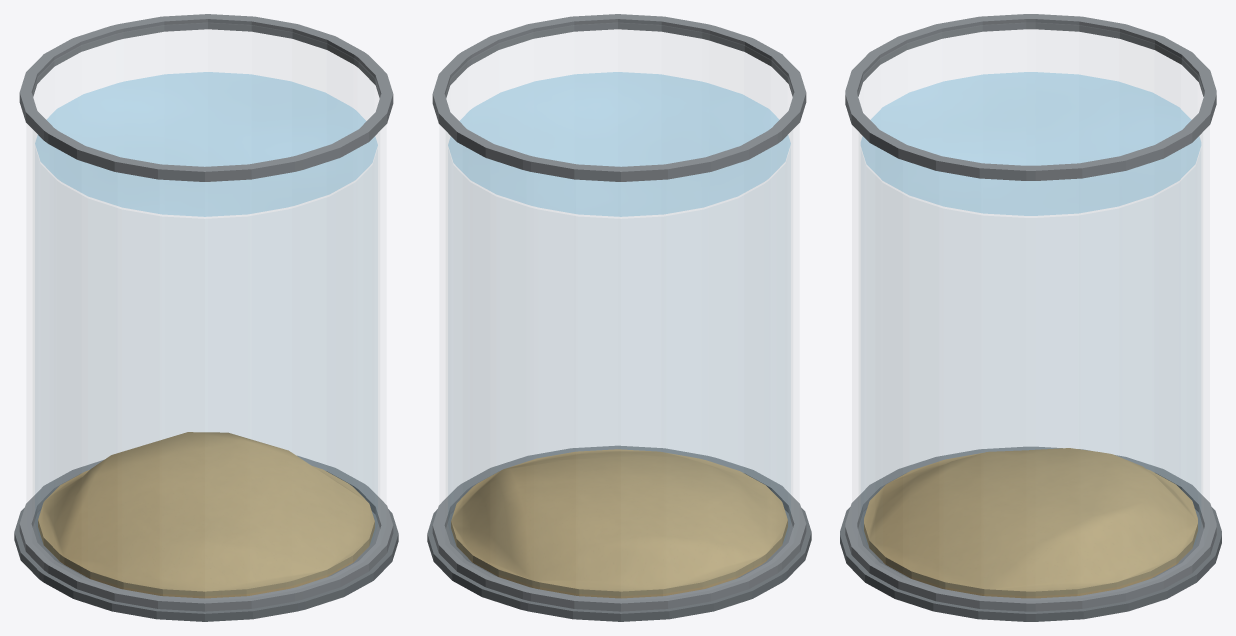
The model's file is aquarium_c.glb.
The picture shows the model from 3 angles, left to right: view 1: azimuth 30°, elevation 25°; view 2: azimuth 150°, elevation 25°; view 3: azimuth 270°, elevation 25°; orthographic projection.
Parts seen in each view (by area): view 1: GLASS_AcrylicShell, INTERIOR_GroundSurface, WATER_Surface, STRUCTURE_TopRim, STRUCTURE_BottomRim, STRUCTURE_BasePlinth, INTERIOR_GroundBase; view 2: GLASS_AcrylicShell, INTERIOR_GroundSurface, WATER_Surface, STRUCTURE_TopRim, STRUCTURE_BottomRim, STRUCTURE_BasePlinth, INTERIOR_GroundBase; view 3: GLASS_AcrylicShell, INTERIOR_GroundSurface, WATER_Surface, STRUCTURE_TopRim, STRUCTURE_BottomRim, STRUCTURE_BasePlinth, INTERIOR_GroundBase.
Boxes of the visible parts, bbox=[...] form: GLASS_AcrylicShell: bbox=[33, 130, 379, 528]; INTERIOR_GroundSurface: bbox=[38, 432, 374, 591]; WATER_Surface: bbox=[35, 72, 377, 216]; STRUCTURE_TopRim: bbox=[19, 14, 393, 181]; STRUCTURE_BottomRim: bbox=[19, 455, 393, 611]; STRUCTURE_BasePlinth: bbox=[14, 508, 398, 621]; INTERIOR_GroundBase: bbox=[38, 520, 374, 598]; GLASS_AcrylicShell: bbox=[446, 130, 792, 528]; INTERIOR_GroundSurface: bbox=[451, 449, 787, 591]; WATER_Surface: bbox=[448, 72, 790, 216]; STRUCTURE_TopRim: bbox=[432, 14, 806, 181]; STRUCTURE_BottomRim: bbox=[432, 445, 806, 611]; STRUCTURE_BasePlinth: bbox=[427, 508, 811, 621]; INTERIOR_GroundBase: bbox=[451, 520, 787, 598]; GLASS_AcrylicShell: bbox=[859, 133, 1202, 525]; INTERIOR_GroundSurface: bbox=[864, 448, 1197, 591]; WATER_Surface: bbox=[861, 72, 1200, 215]; STRUCTURE_TopRim: bbox=[845, 14, 1216, 180]; STRUCTURE_BottomRim: bbox=[845, 446, 1216, 611]; STRUCTURE_BasePlinth: bbox=[840, 507, 1221, 621]; INTERIOR_GroundBase: bbox=[864, 524, 1197, 598].
Bounding box in the file's own units: 51.2 × 66.4 × 51.2.
Materials: 8 (3 with a texture image).
